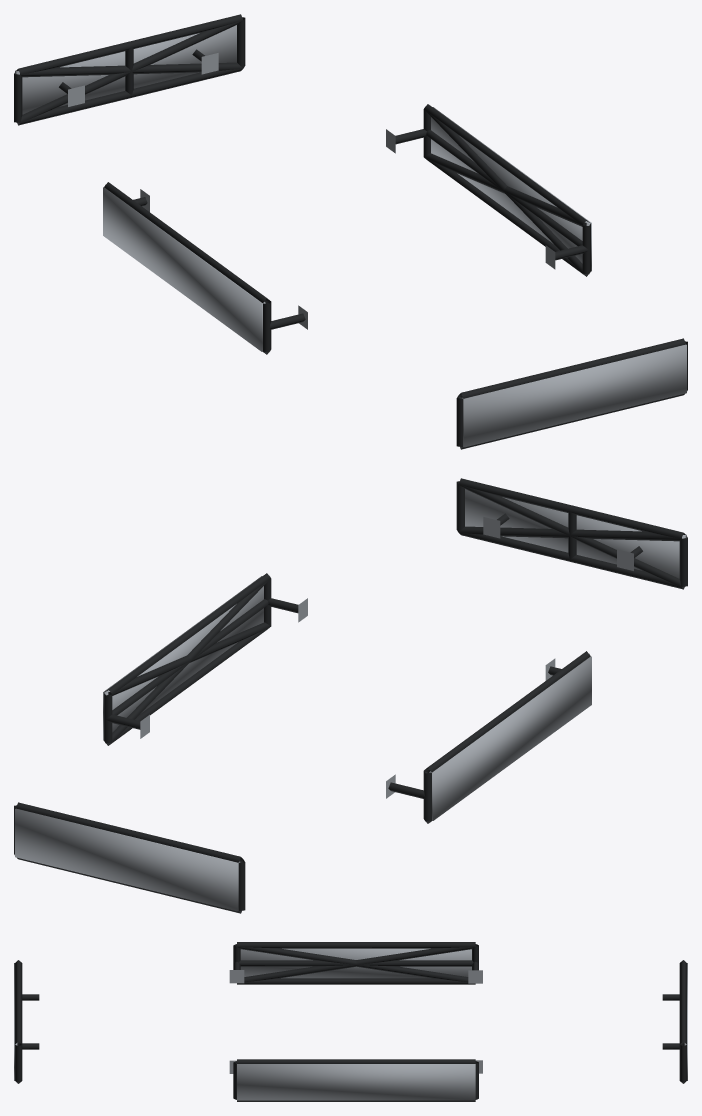
The model's file is mizuchi_visconde_protecao.glb.
The picture shows the model from 3 angles, top to bottom: view 1: azimuth 30°, elevation 25°; view 2: azimuth 150°, elevation 25°; view 3: azimuth 270°, elevation 25°; orthographic projection. The views are drawn at different scales.
Parts seen in each view (by area): view 1: Protection_front_Level3_Details, Protection_left_Level3_Details, Protection_rear_Level1_Details, Protection_rear_Level3_Details, Protection_right_Level1_Details, Protection_right_Level2_Details, Protection_rear_Level2_Details, Protection_right_Level3_Details, Protection_front_Level1_Details, Protection_left_Level1_Details; view 2: Protection_rear_Level3_Details, Protection_left_Level3_Details, Protection_front_Level1_Details, Protection_front_Level3_Details, Protection_right_Level1_Details, Protection_right_Level2_Details, Protection_front_Level2_Details, Protection_right_Level3_Details, Protection_rear_Level1_Details, Protection_left_Level1_Details; view 3: Protection_right_Level3_Details, Protection_left_Level2_Details, Protection_left_Level3_Details, Protection_left_Level1_Details, Protection_right_Level1_Details, Protection_rear_Level1_Details, Protection_front_Level1_Details.
Part boxes in pixels (left/top/right/bottom): Protection_front_Level3_Details: left=461, top=344, right=686, bottom=447; Protection_left_Level3_Details: left=103, top=187, right=265, bottom=351; Protection_rear_Level1_Details: left=14, top=14, right=245, bottom=125; Protection_rear_Level3_Details: left=15, top=25, right=236, bottom=114; Protection_right_Level1_Details: left=386, top=104, right=590, bottom=276; Protection_right_Level2_Details: left=424, top=109, right=589, bottom=276; Protection_rear_Level2_Details: left=16, top=20, right=242, bottom=124; Protection_right_Level3_Details: left=431, top=107, right=591, bottom=271; Protection_front_Level1_Details: left=456, top=338, right=687, bottom=449; Protection_left_Level1_Details: left=104, top=182, right=307, bottom=354; Protection_rear_Level3_Details: left=15, top=808, right=240, bottom=911; Protection_left_Level3_Details: left=429, top=656, right=591, bottom=820; Protection_front_Level1_Details: left=456, top=478, right=687, bottom=589; Protection_front_Level3_Details: left=465, top=489, right=686, bottom=578; Protection_right_Level1_Details: left=104, top=573, right=307, bottom=745; Protection_right_Level2_Details: left=104, top=579, right=270, bottom=745; Protection_front_Level2_Details: left=459, top=484, right=685, bottom=588; Protection_right_Level3_Details: left=103, top=576, right=263, bottom=740; Protection_rear_Level1_Details: left=14, top=802, right=245, bottom=913; Protection_left_Level1_Details: left=386, top=651, right=590, bottom=823; Protection_right_Level3_Details: left=237, top=1064, right=475, bottom=1100; Protection_left_Level2_Details: left=236, top=946, right=475, bottom=982; Protection_left_Level3_Details: left=240, top=948, right=471, bottom=978; Protection_left_Level1_Details: left=229, top=942, right=482, bottom=984; Protection_right_Level1_Details: left=229, top=1059, right=482, bottom=1101; Protection_rear_Level1_Details: left=662, top=960, right=686, bottom=1083; Protection_front_Level1_Details: left=15, top=960, right=39, bottom=1083.
Size of the model in its own units: 2.15 by 0.354 by 5.06.
1 material, 1 textured.
